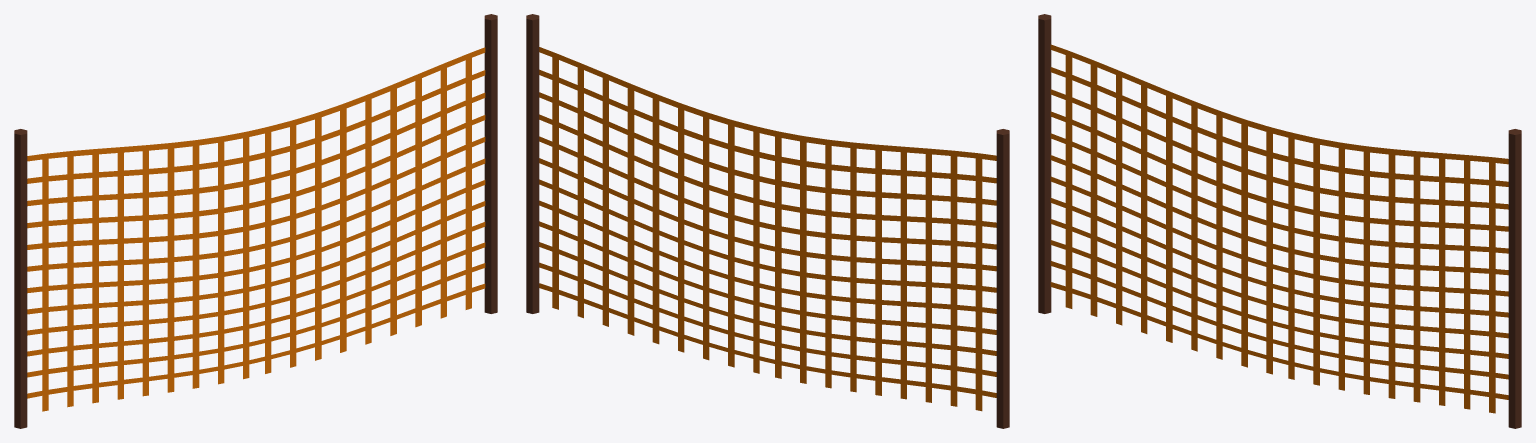
File: net.fbx
3 renders of one model, left to right at view 1: azimuth 30°, elevation 25°; view 2: azimuth 150°, elevation 25°; view 3: azimuth 330°, elevation 25°, orthographic.
Visible parts, largest first — view 1: Plane; view 2: Plane; view 3: Plane.
Boxes of the visible parts, x1,y1,x2,y2 form: Plane: (14, 14, 497, 428); Plane: (526, 14, 1009, 428); Plane: (1038, 14, 1521, 428).
Size of the model in its own units: 670 by 400 by 15.59.
